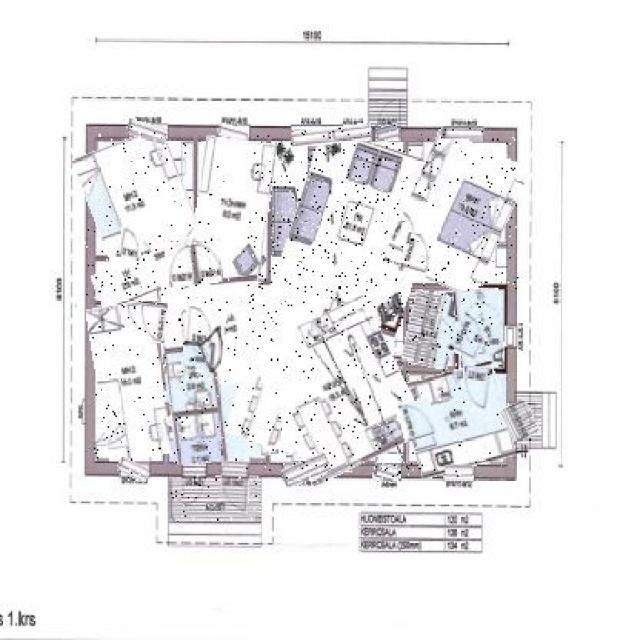door: (183, 308, 228, 372), (166, 243, 223, 286), (449, 316, 488, 358), (397, 400, 437, 440), (220, 460, 249, 515), (400, 234, 434, 277), (503, 402, 537, 440), (462, 368, 492, 410), (137, 303, 168, 343), (182, 464, 206, 504), (117, 226, 143, 260)
window: (291, 126, 371, 145), (280, 457, 331, 483), (128, 122, 168, 143), (118, 460, 150, 480), (440, 129, 485, 142), (445, 464, 472, 482), (374, 465, 400, 483), (217, 125, 249, 138), (376, 125, 398, 142)
zone: (248, 134, 426, 466), (260, 306, 415, 477), (161, 277, 274, 463), (85, 132, 206, 303), (396, 136, 518, 292), (92, 303, 171, 460), (402, 366, 511, 472), (192, 138, 272, 282), (406, 292, 459, 368), (170, 477, 258, 521), (455, 289, 503, 368), (94, 259, 163, 306), (166, 346, 212, 409), (166, 411, 214, 460)
